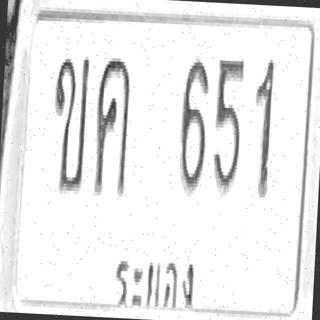A02: (48, 52, 90, 195)
A04: (92, 54, 133, 197)
N01: (250, 54, 276, 199)
N05: (210, 54, 245, 196)
N06: (176, 57, 211, 196)
P53: (108, 238, 201, 316)
